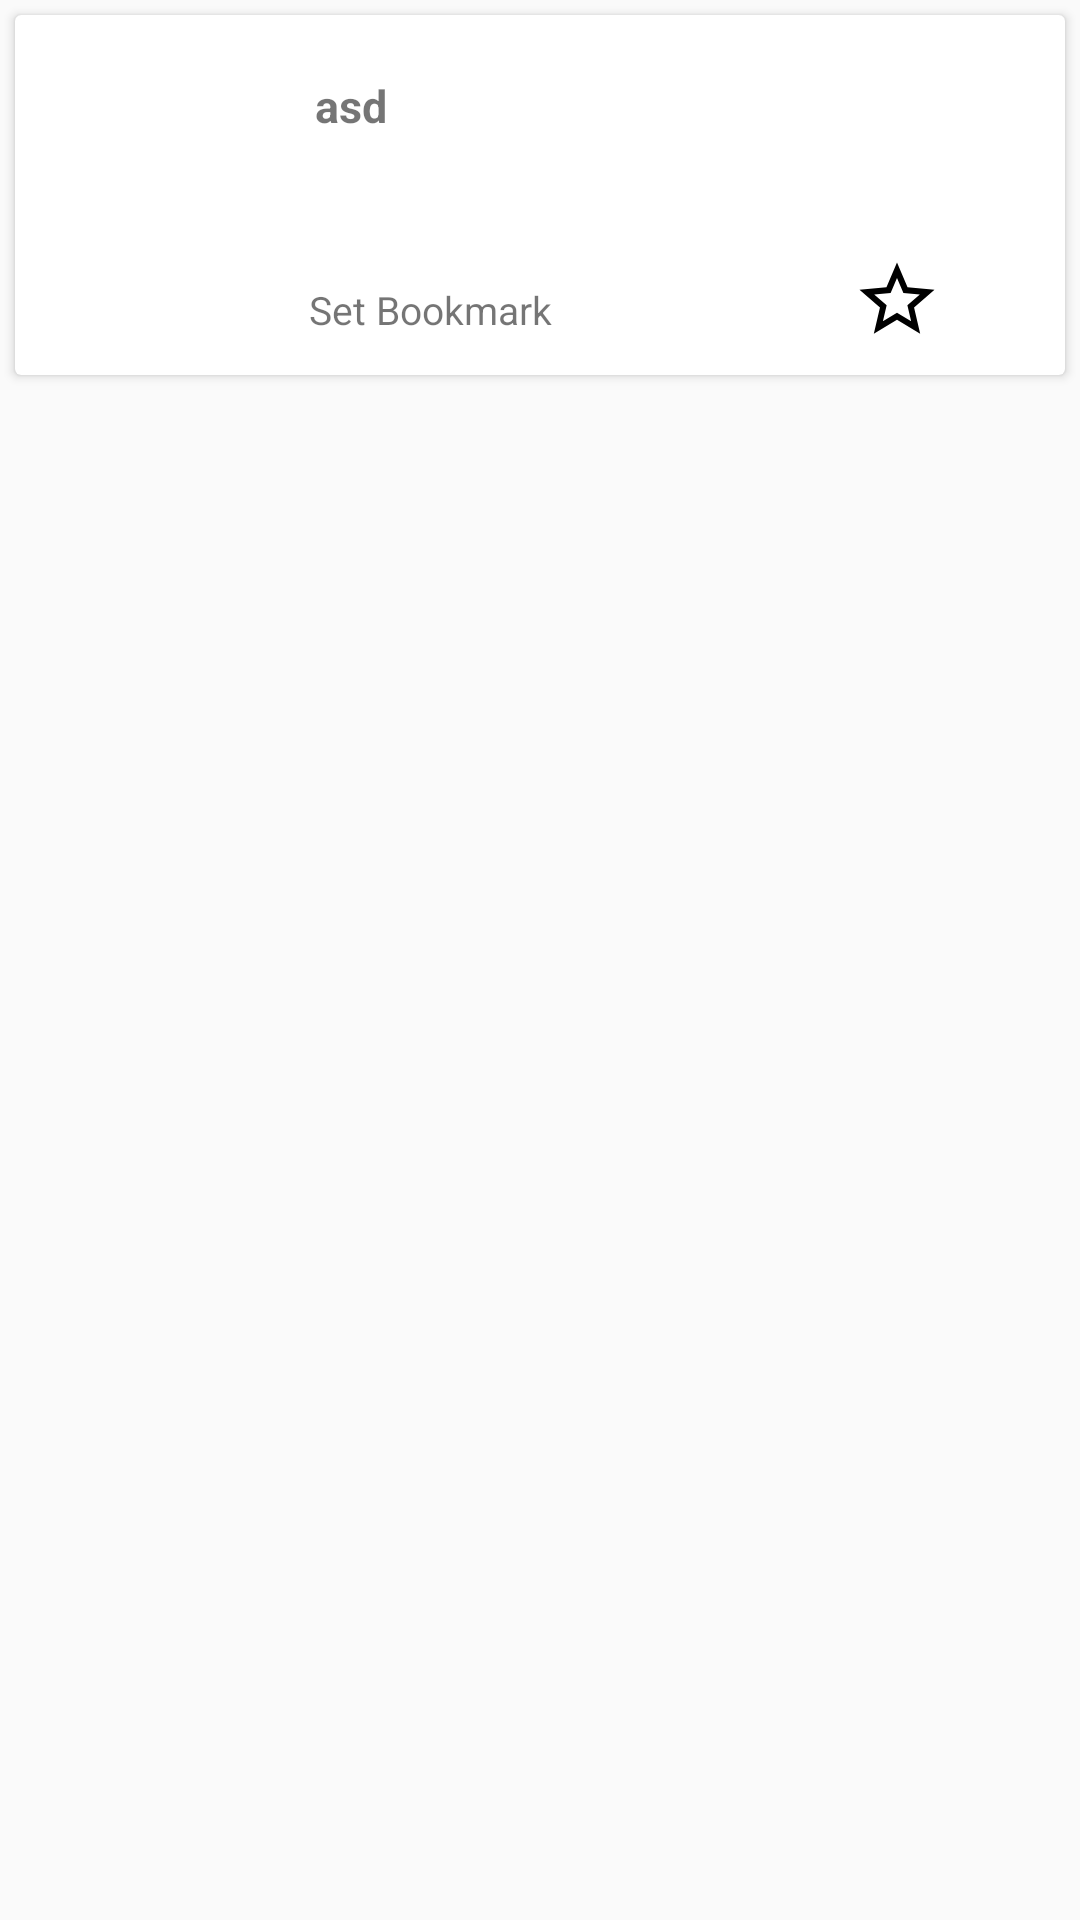

Icons on this 1080*1920 Android screen, each with its box as (x1, y1, x2, y2):
star border: (860, 263, 934, 334)
